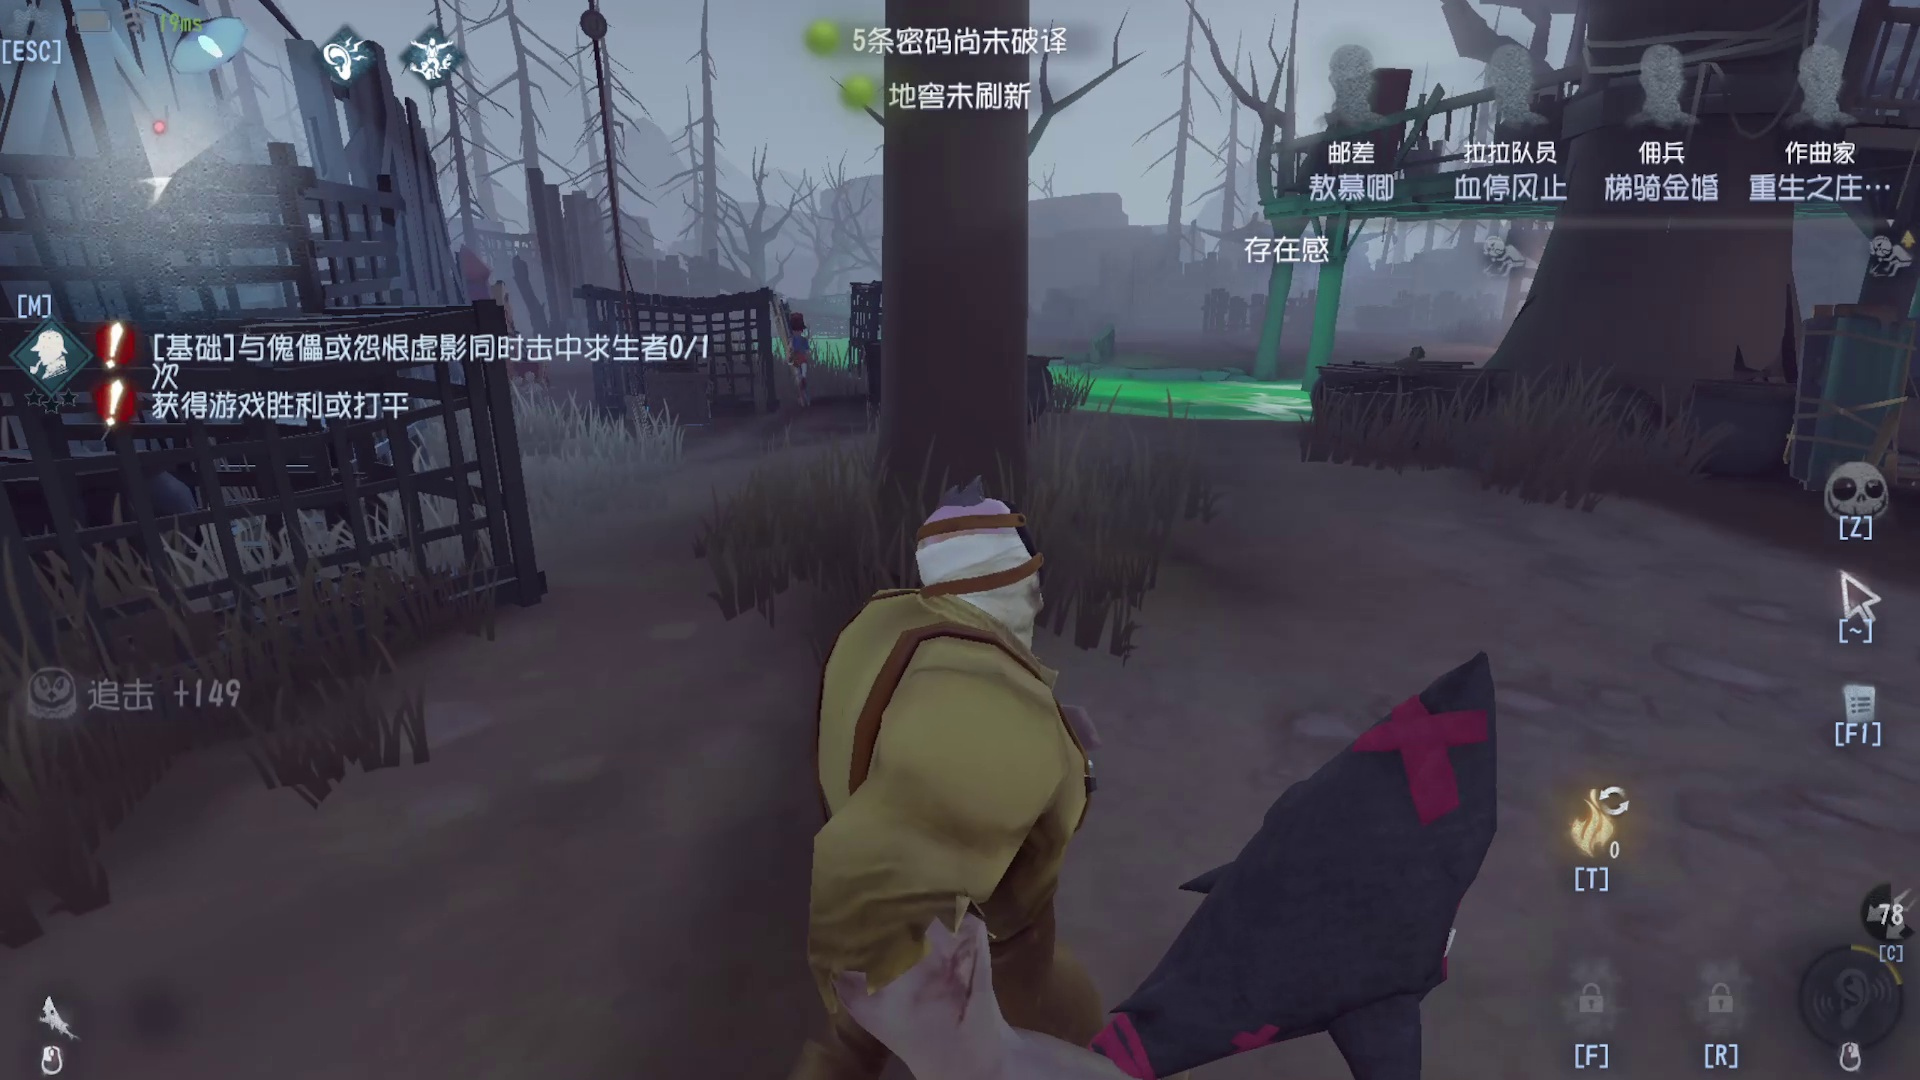木板: (1768, 291, 1887, 530), (757, 280, 818, 421)
求生者: (785, 309, 836, 407)
狂欢之椅: (454, 241, 553, 413)
